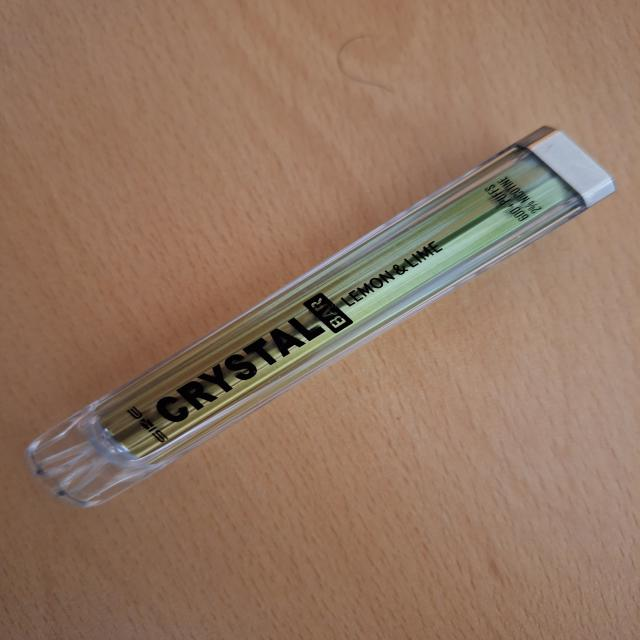Hazard: (24, 124, 617, 508)
